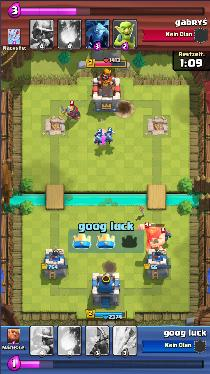ally_minion: (104, 130, 114, 143), (93, 132, 103, 144)
enemy_giant: (137, 223, 166, 250)
enemy_knight: (58, 103, 81, 120)
enemy_mini_pekka: (163, 230, 171, 241)
